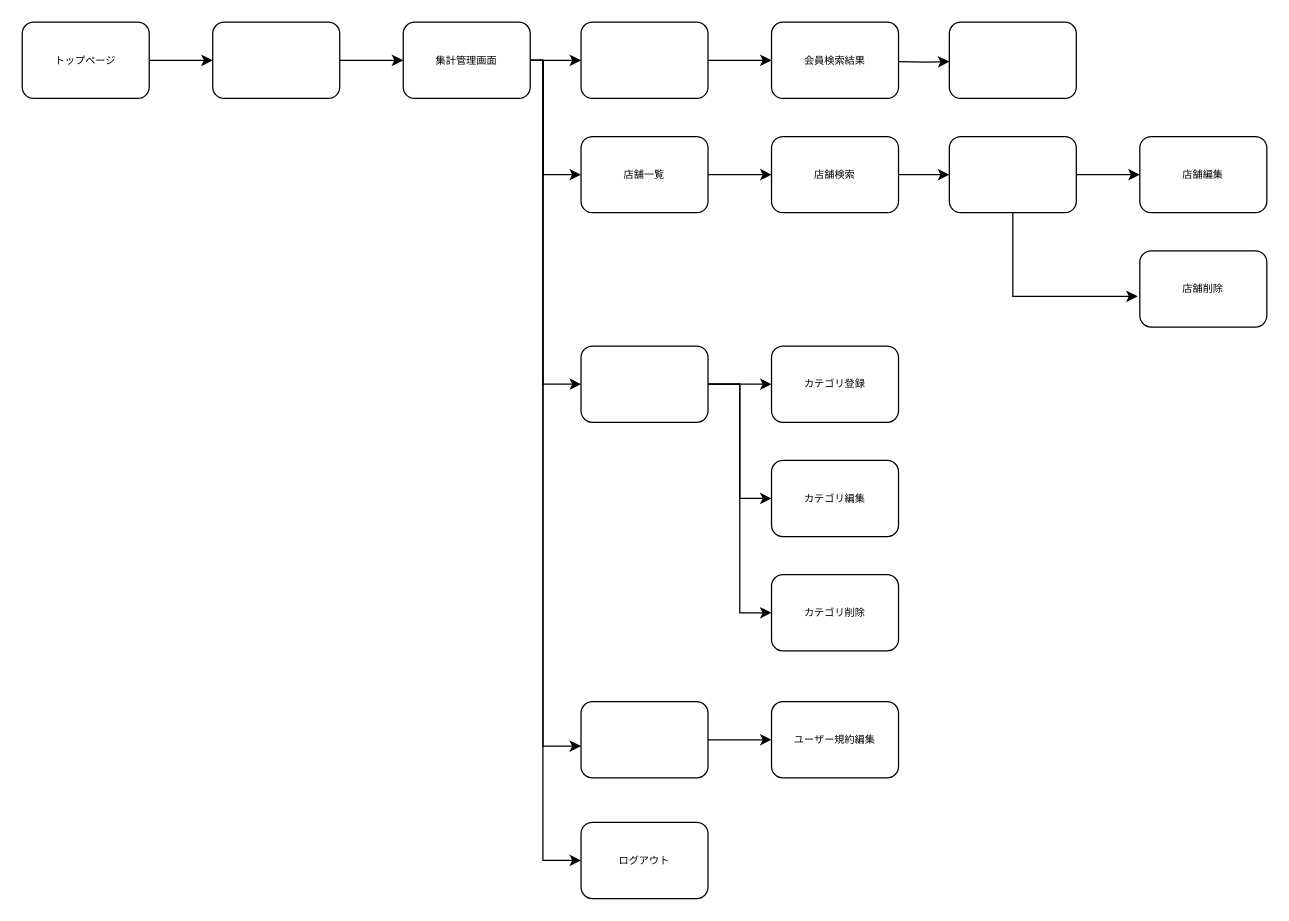
The diagram is 1289 pixels wide and 921 high, and some of its shapes have lost their labels. Each missing label, with the centre of its shape:
カテゴリ一覧: (644,383)
ユーザー規約: (644,739)
ログインページ: (275,59)
会員一覧: (644,59)
会員詳細: (1012,59)
店舗詳細: (1012,174)
